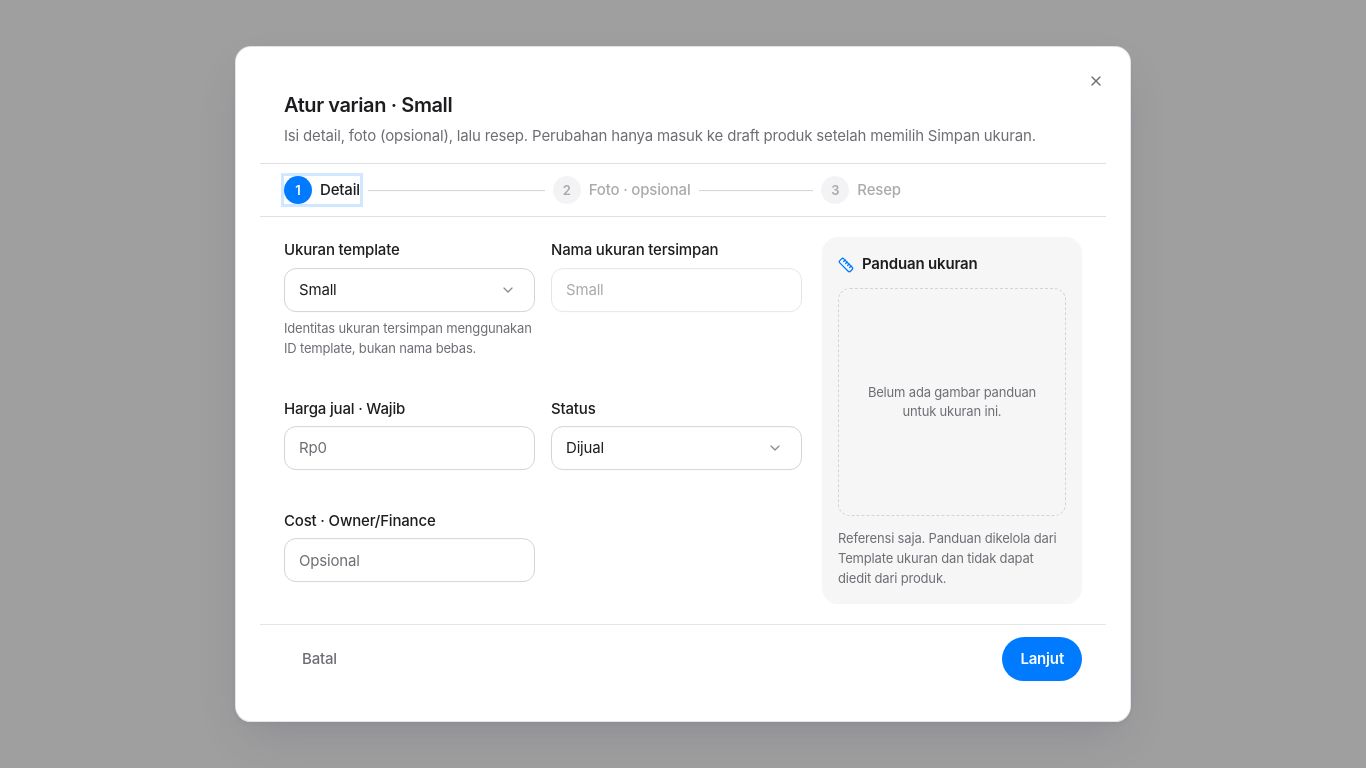
Test case: Variant editor linear steps › goes back a step with Kembali and does not let a new size jump ahead
Expected: the button "3 Resep" is disabled, [821,176,901,204]
Type "90000" into the number field with placeholder "Rp0".
click(410, 448); type("90000")  # box [284,426,535,470]
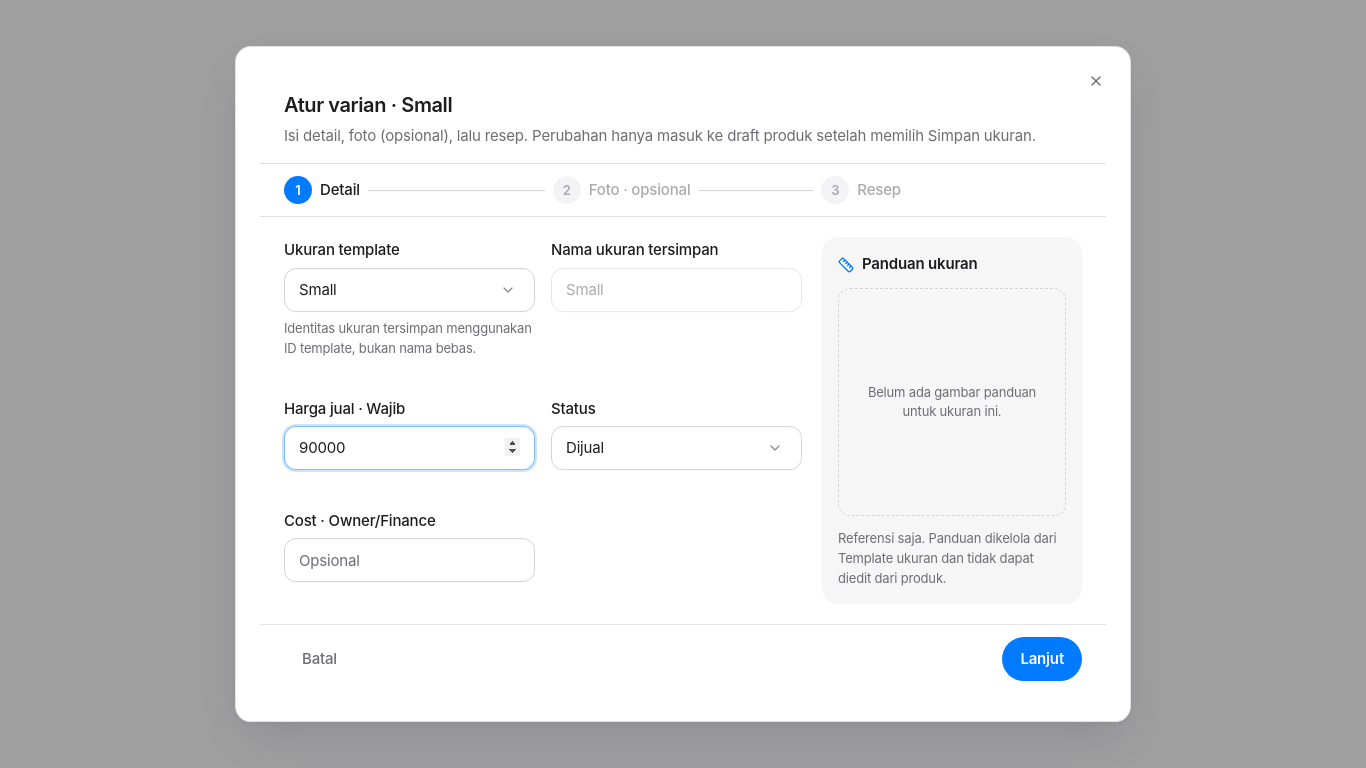
Click the button "Lanjut".
click(1042, 659)  # box [1002,637,1082,681]
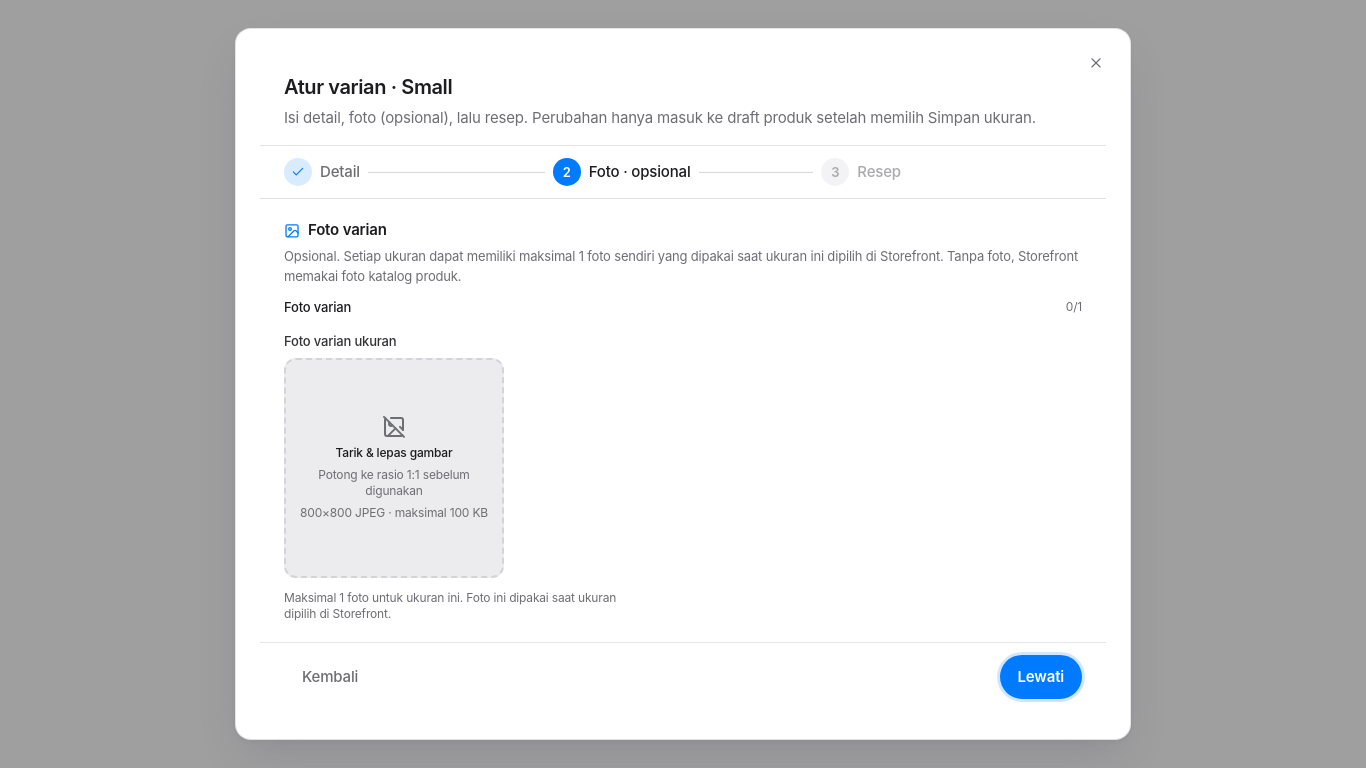
Click the button "Kembali".
click(330, 677)  # box [284,655,376,699]
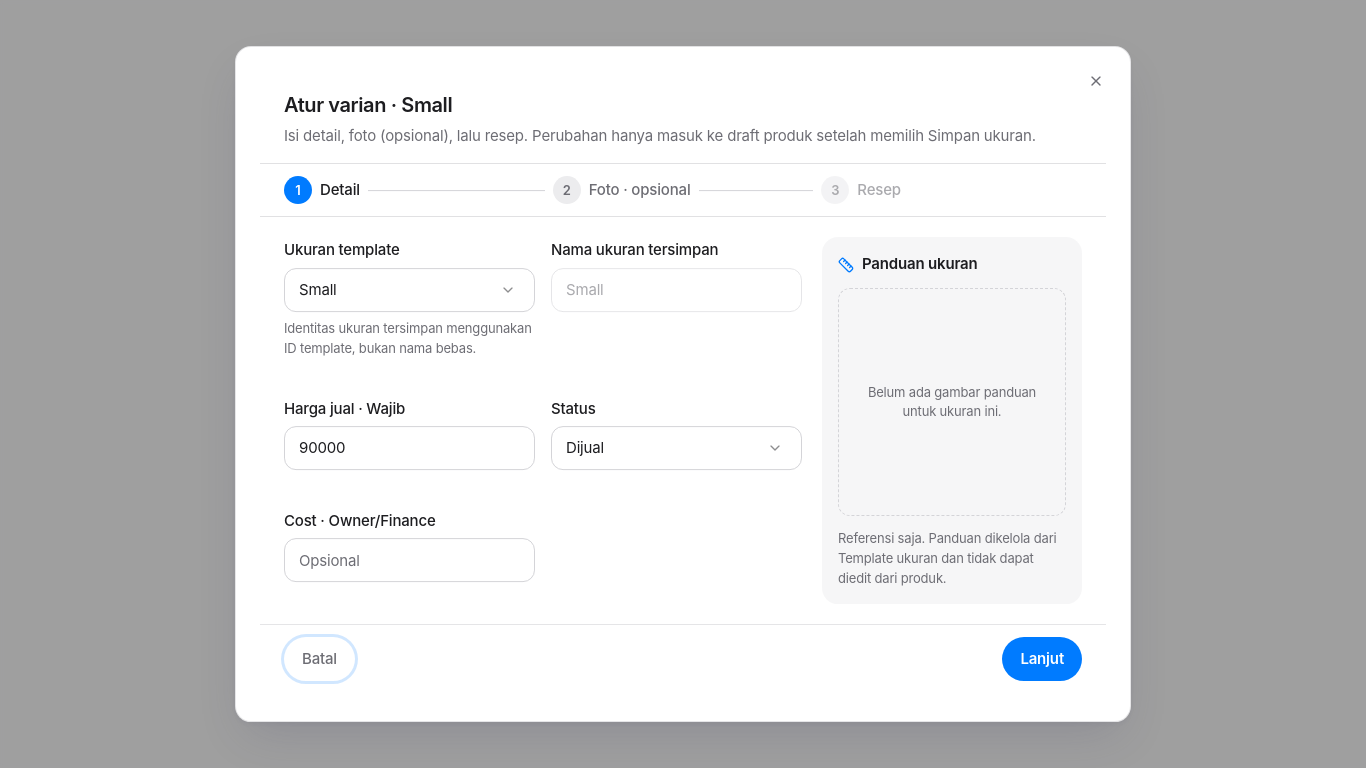
Expected: the number field with placeholder "Rp0" holds "90000", [284,426,535,470]
